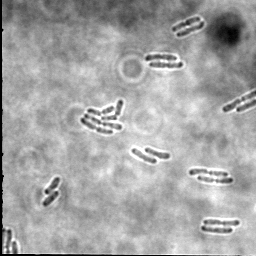Dividing: (221, 90, 255, 113), (171, 15, 202, 33), (176, 20, 205, 39), (188, 167, 230, 179), (143, 52, 180, 63), (196, 175, 234, 185), (148, 61, 185, 70)
Microcolony: (80, 98, 125, 136)
Rod: (131, 147, 157, 165), (144, 146, 171, 160), (44, 176, 62, 195), (201, 225, 234, 235), (43, 190, 61, 208), (236, 100, 255, 114)
